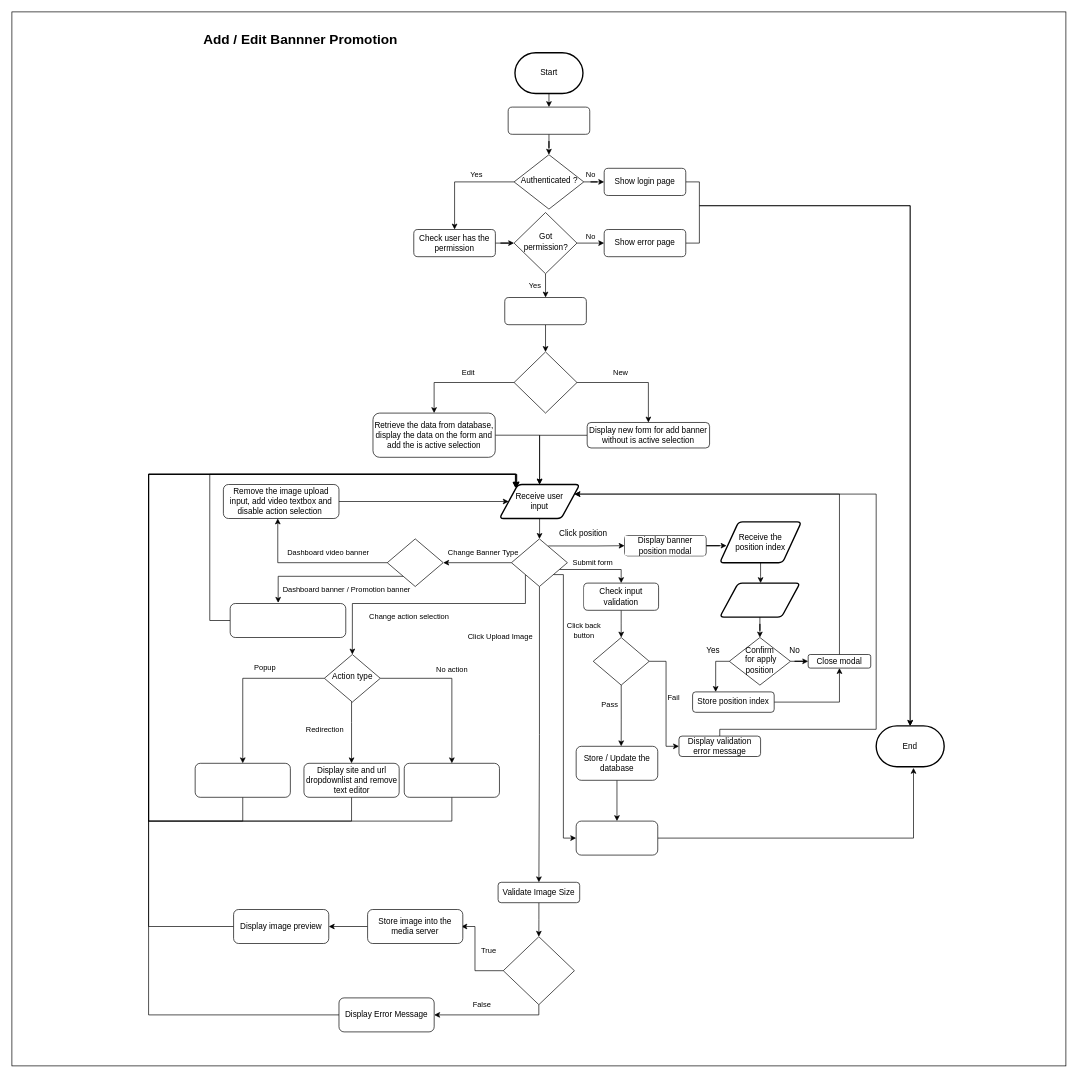
The diagram is 1078 pixels wide and 1078 high, and some of its shapes have lost their labels. Each missing label, with the centre of its shape:
"Banner Type" belongs at point (415, 562).
"Check the type of page" belongs at point (545, 311).
"Check user is authenticated" belongs at point (548, 120).
"Display the list promotion banner page" belongs at point (616, 837).
"Image Size <= 1584 x 810" belongs at point (538, 970).
"Input event" belongs at point (539, 562).
"Receive user confirmation" belongs at point (759, 599).
"Remove site and url dropdownlist and display text editor" belongs at point (242, 780).
"Remove site and url dropdownlist text editor" belongs at point (451, 780).
"Remove the video textbox, add image upload input and enable action selection" belongs at point (288, 620).
"Type of the page" belongs at point (545, 382).
"Validation Input" belongs at point (621, 661).
